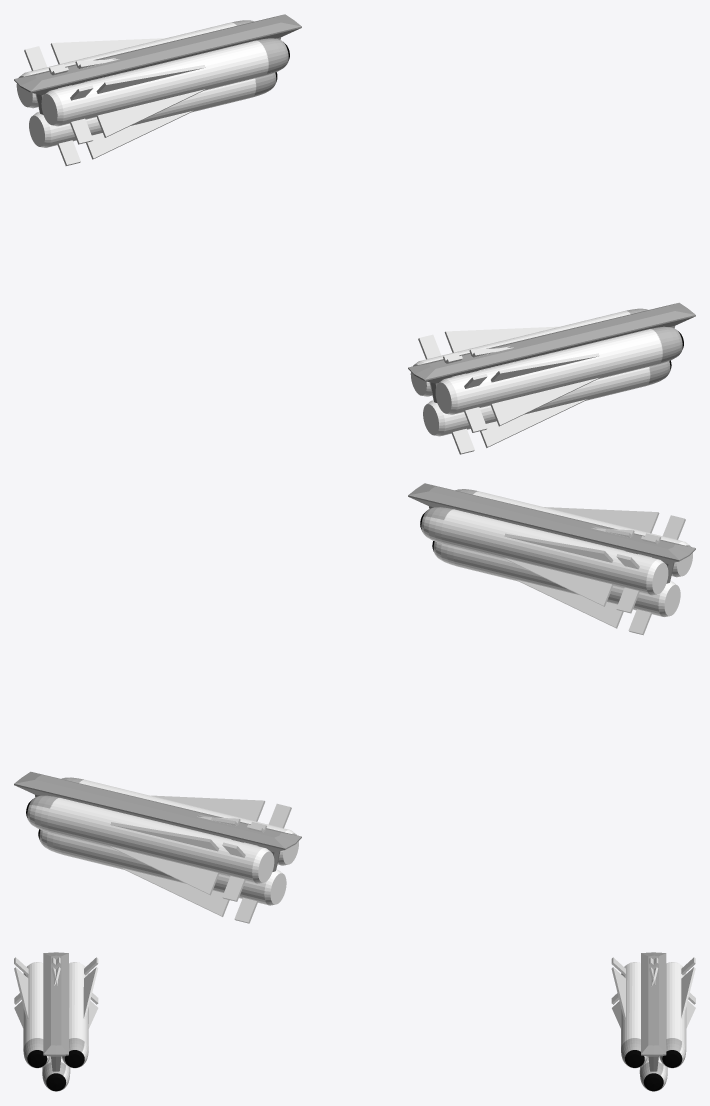
The model's file is f16cagm6514.glb.
3 renders of one model, top to bottom at view 1: azimuth 30°, elevation 25°; view 2: azimuth 150°, elevation 25°; view 3: azimuth 270°, elevation 25°, orthographic. The views are drawn at different scales.
Visible parts, largest first — view 1: 立方体.013, 立方体.016, 立方体.009, 立方体.010, 立方体.011, 立方体.014, 立方体.015, 立方体.012; view 2: 立方体.015, 立方体.012, 立方体.010, 立方体.009, 立方体.014, 立方体.011, 立方体.016, 立方体.013; view 3: 立方体.013, 立方体.015, 立方体.009, 立方体.010, 立方体.016, 立方体.012, 立方体.014, 立方体.011.
Boxes of the visible parts, <box> form: 立方体.013: <box>435,326,683,432</box>; 立方体.016: <box>41,38,289,144</box>; 立方体.009: <box>408,302,695,402</box>; 立方体.010: <box>14,14,301,114</box>; 立方体.011: <box>423,360,671,454</box>; 立方体.014: <box>29,72,277,165</box>; 立方体.015: <box>16,20,254,108</box>; 立方体.012: <box>410,308,647,396</box>; 立方体.015: <box>26,795,274,901</box>; 立方体.012: <box>420,507,668,613</box>; 立方体.010: <box>14,771,301,871</box>; 立方体.009: <box>408,483,695,583</box>; 立方体.014: <box>38,829,286,923</box>; 立方体.011: <box>432,541,680,635</box>; 立方体.016: <box>61,777,298,865</box>; 立方体.013: <box>455,489,692,577</box>; 立方体.013: <box>14,957,60,1068</box>; 立方体.015: <box>649,957,695,1068</box>; 立方体.009: <box>43,952,68,1071</box>; 立方体.010: <box>641,952,666,1071</box>; 立方体.016: <box>611,957,658,1068</box>; 立方体.012: <box>51,957,98,1068</box>; 立方体.014: <box>639,1056,667,1091</box>; 立方体.011: <box>42,1056,70,1091</box>.
Size of the model in its own units: 2.9 by 0.8813 by 8.26.
Materials: 3 (1 with a texture image).
